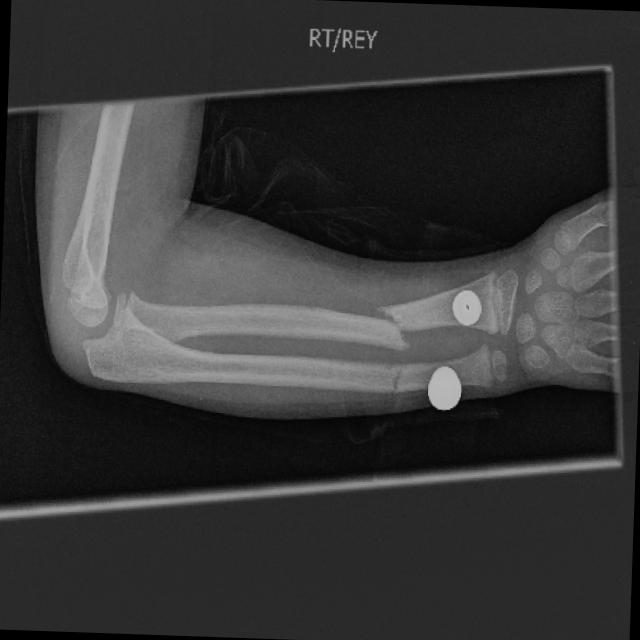forearm fracture: (331, 275, 436, 373), (366, 340, 438, 426)
